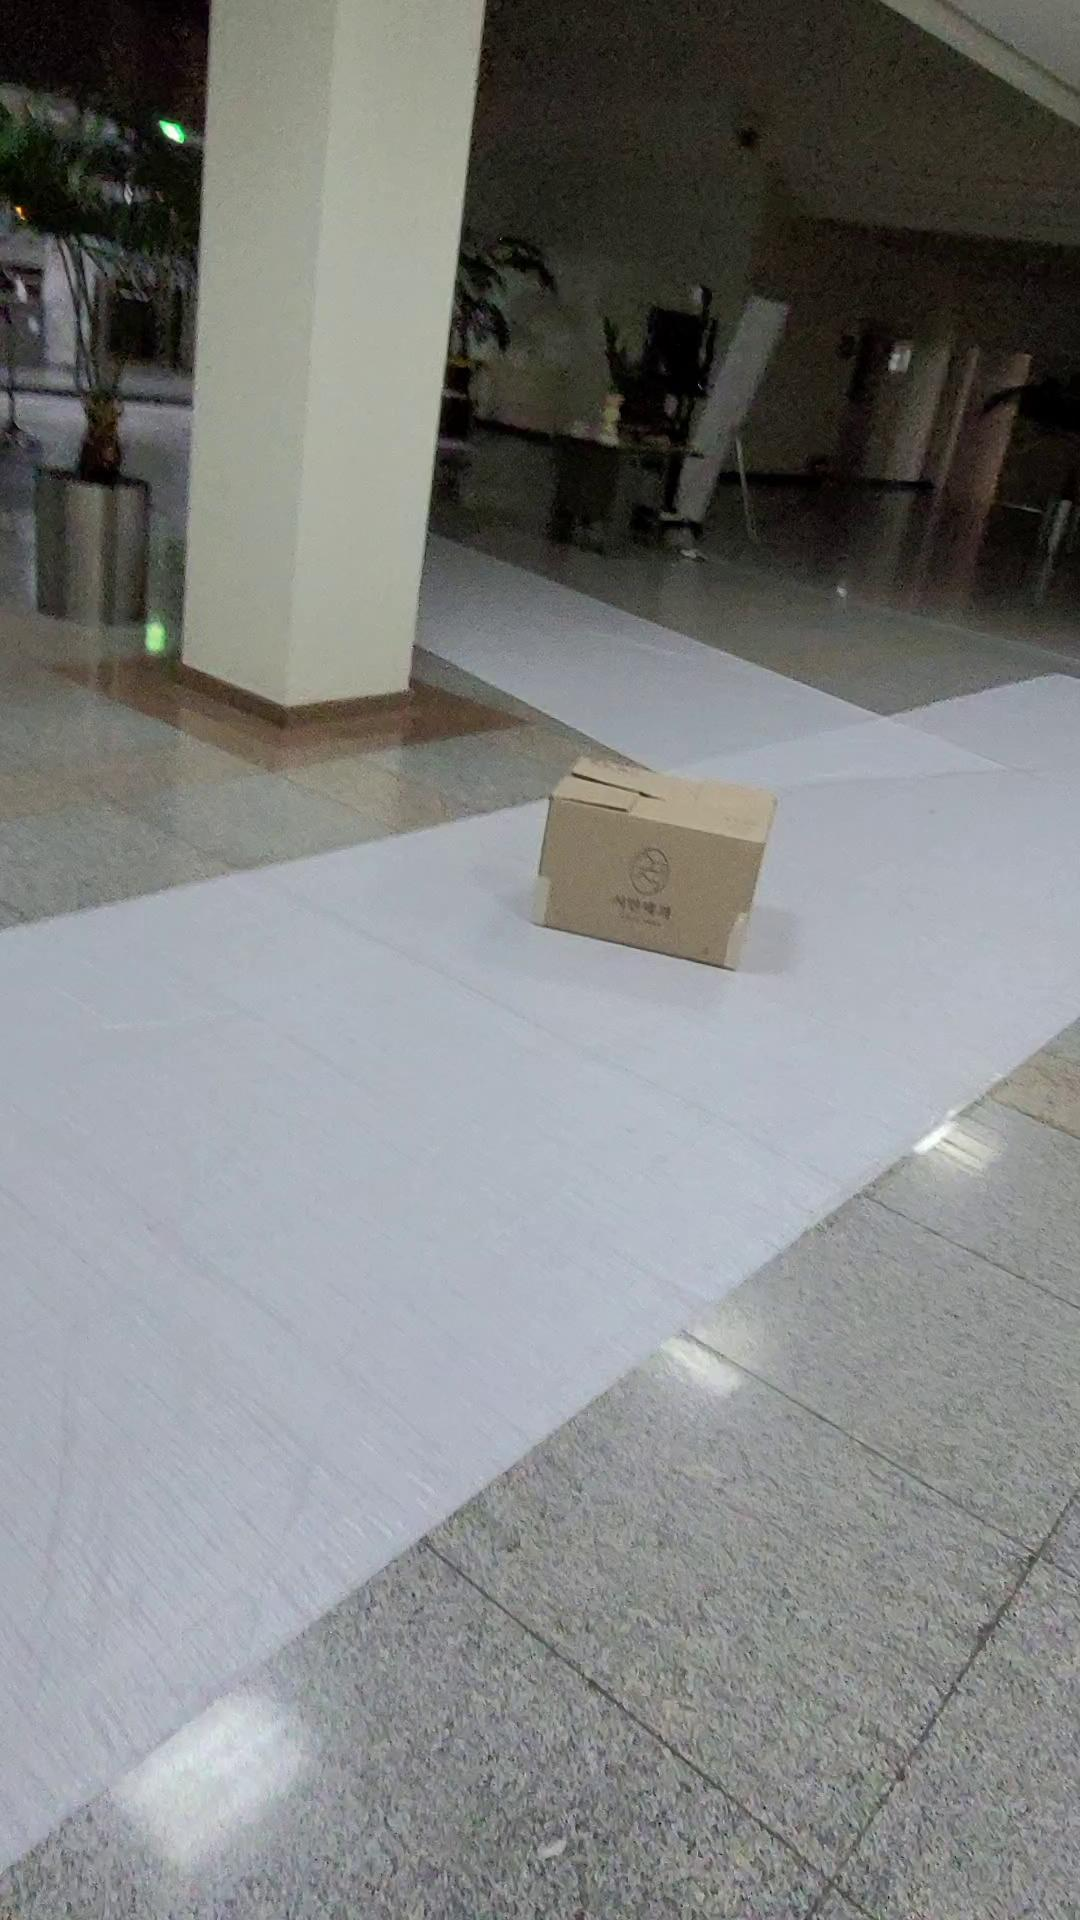Box: (533, 738, 789, 968)
